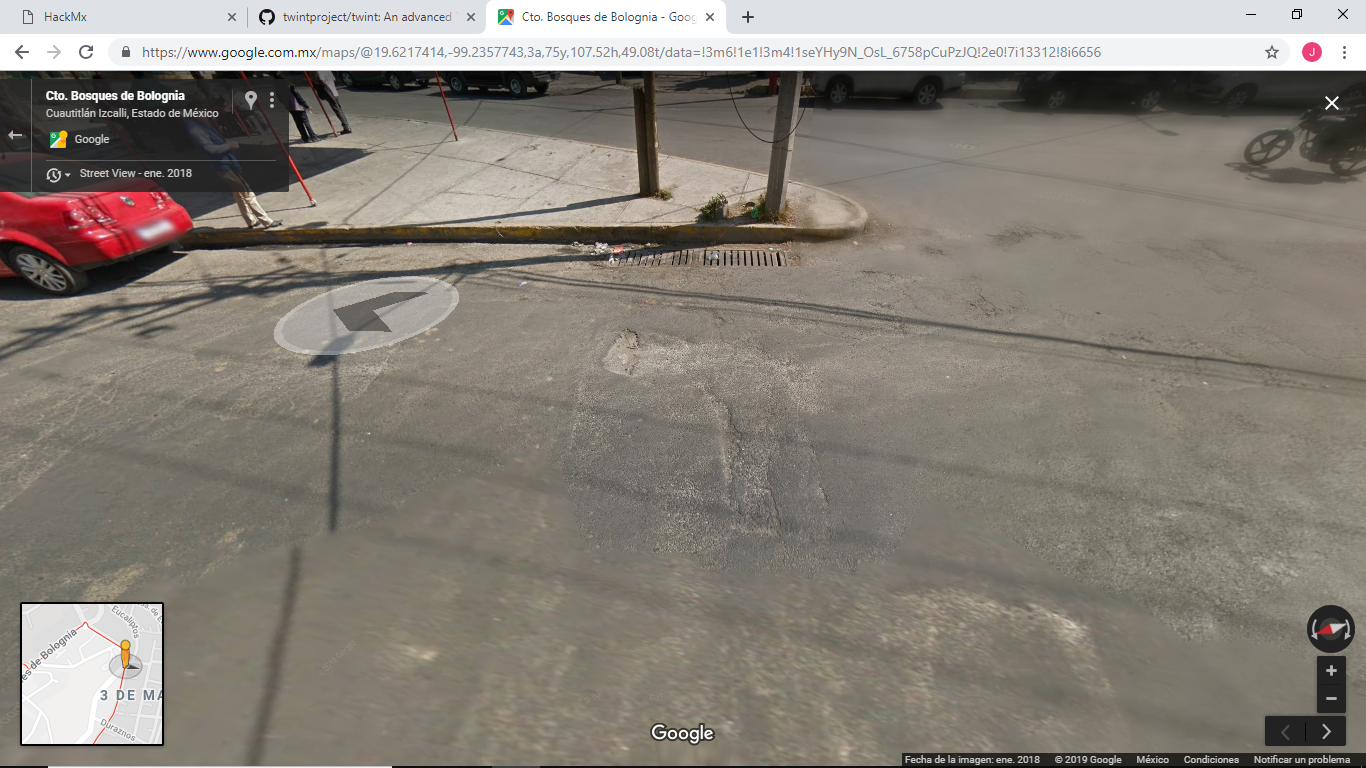pothole: (588, 316, 664, 390)
